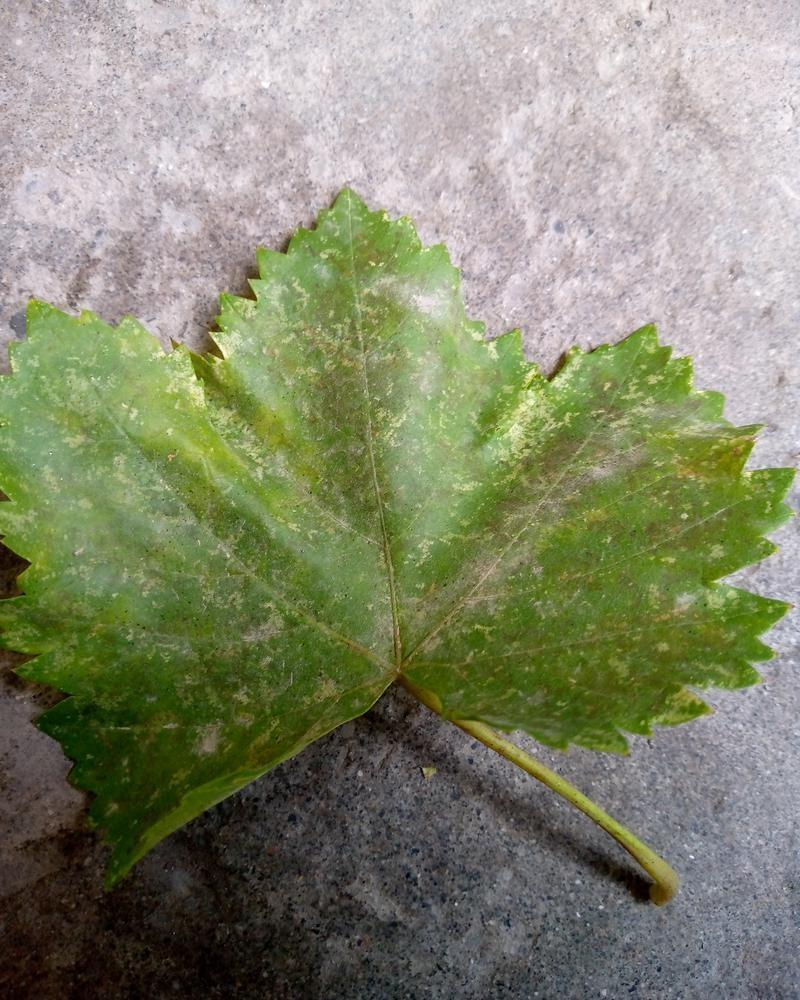Powdery-Mildew: (399, 498, 545, 646), (581, 392, 719, 487), (383, 359, 476, 494), (362, 258, 458, 345), (72, 541, 170, 607), (226, 319, 289, 382), (496, 391, 559, 454), (672, 581, 735, 644)
